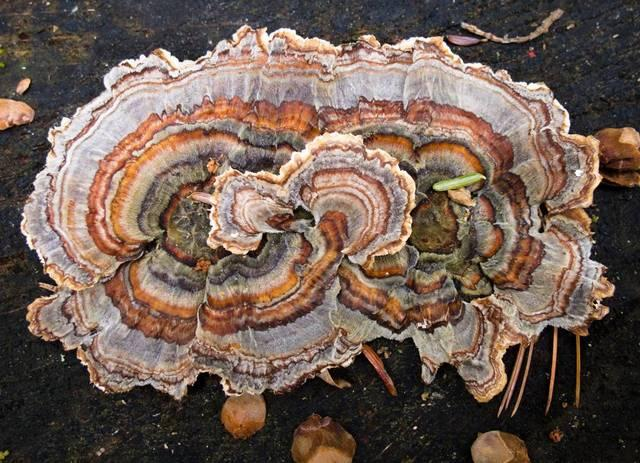poisonous_mushroom: (20, 24, 615, 420)
